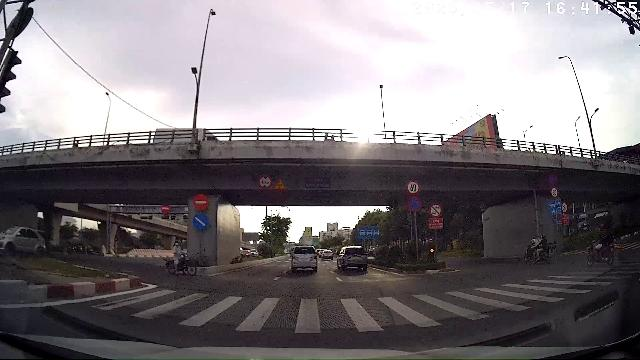127-toc-do-toi-da-50: (550, 187, 559, 198)
127-toc-do-toi-da-60: (406, 180, 421, 195)
